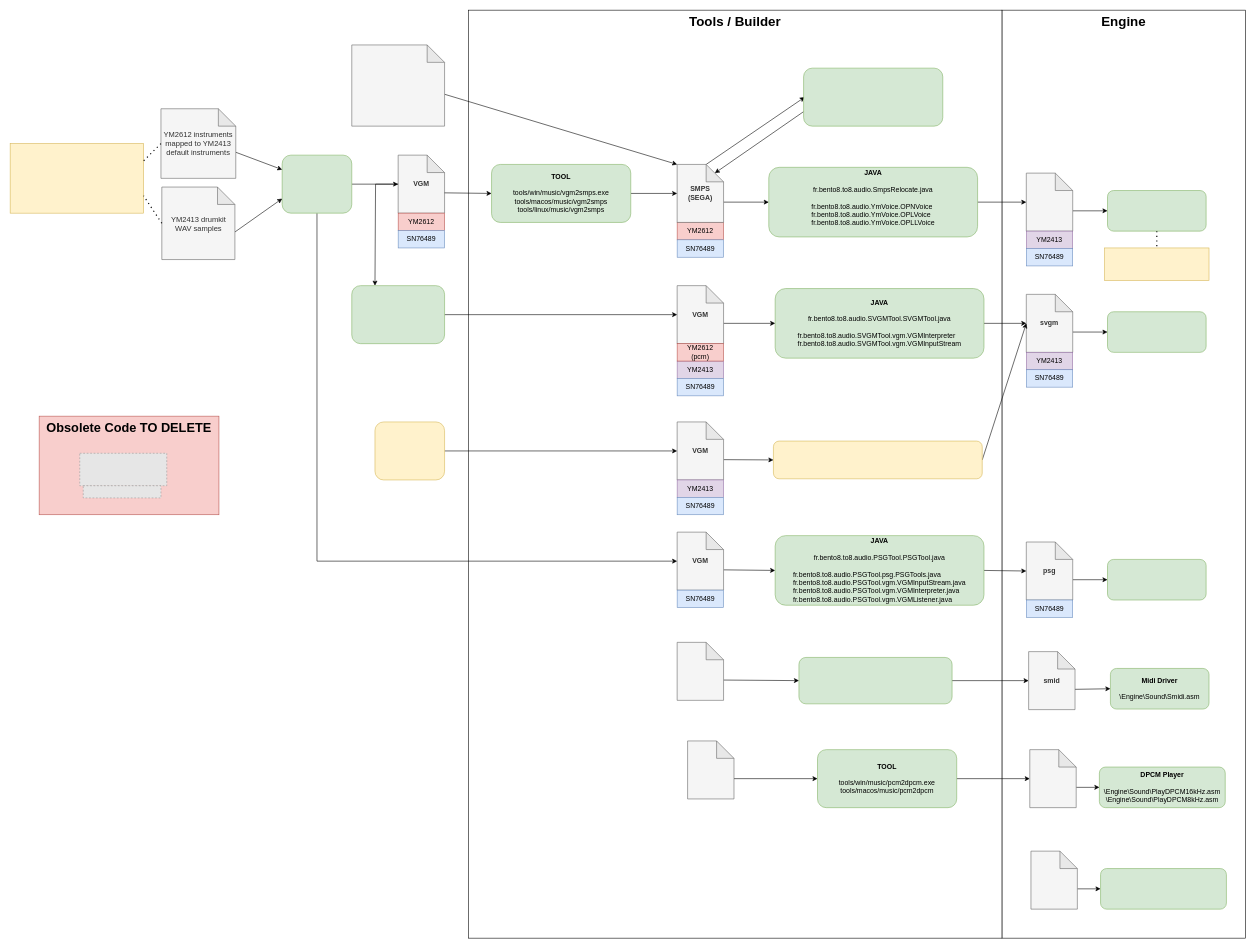
Image size: 1256x948. Some labels were removed from this diagram. Grey dashed boxes stand in for pictures. The centre of each missing label's shape, as x and y in pixels:
"DPCM 8Khz/16Khz" goes at [1052,778].
"external TOOL vgm-conv (node.js)" goes at [398,314].
"JAVA fr.bento8.to8.audio.midi.MidiConverter.java" goes at [875,680].
"JAVA TODO" goes at [877,460].
"MEGADRIVE ROMS Sonic 1/2 ..." goes at [398,85].
"MIDI" goes at [700,671].
"PCM 16Khz" goes at [1053,880].
"PCM 8Khz/16Khz" goes at [710,769].
"PCM Player \Engine\Sound\PlayPCM.asm" goes at [1163,888].
"PSGlib Driver \Engine\Sound\PSGlib.asm" goes at [1156,579].
"smps" goes at [1049,202].
"SMPS Driver \Engine\Sound\Smps.asm \Engine\Sound\Smps_S1.asm" goes at [1156,210].
"SVGM Driver \Engine\Sound\Svgm.asm" goes at [1156,331].
"TODO documents placed in tutoria, need to move this somewhere in the repository" goes at [77,178].
"TODO Need to merge the two files" goes at [1156,263].
"TOOL (Optional) tools/win/music/SMPSOpt.exe Optimize SMPS file size" goes at [873,97].
"TRACKER Deflemask ..." goes at [317,184].
"TRACKER TODO Identify a YM2413 / SN76489 tracker ..." goes at [409,450].
